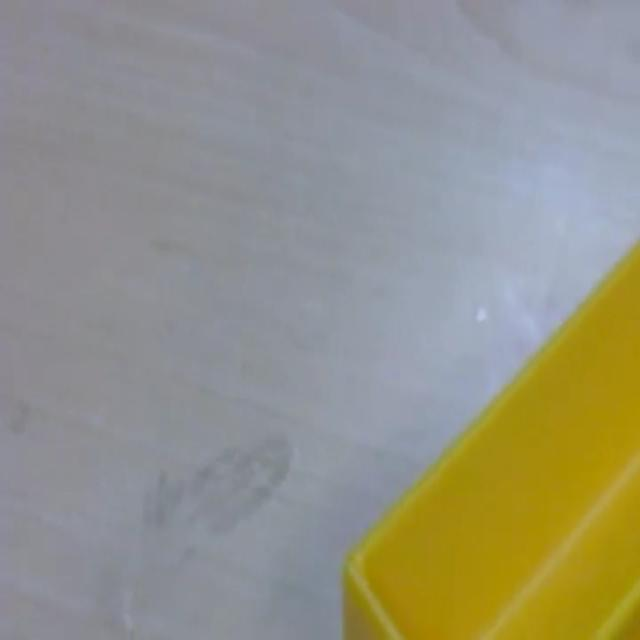yellow_block: (341, 236, 638, 637)
